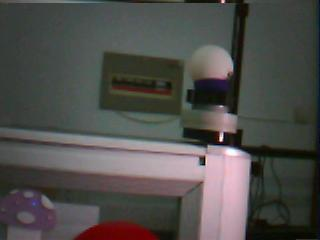oball: (70, 220, 162, 240)
